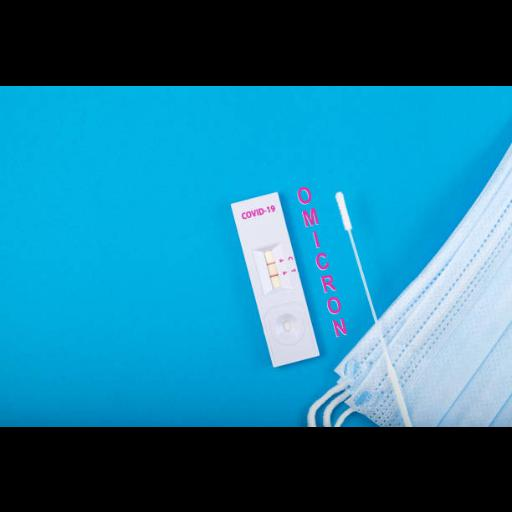Pos: (231, 191, 321, 367)
